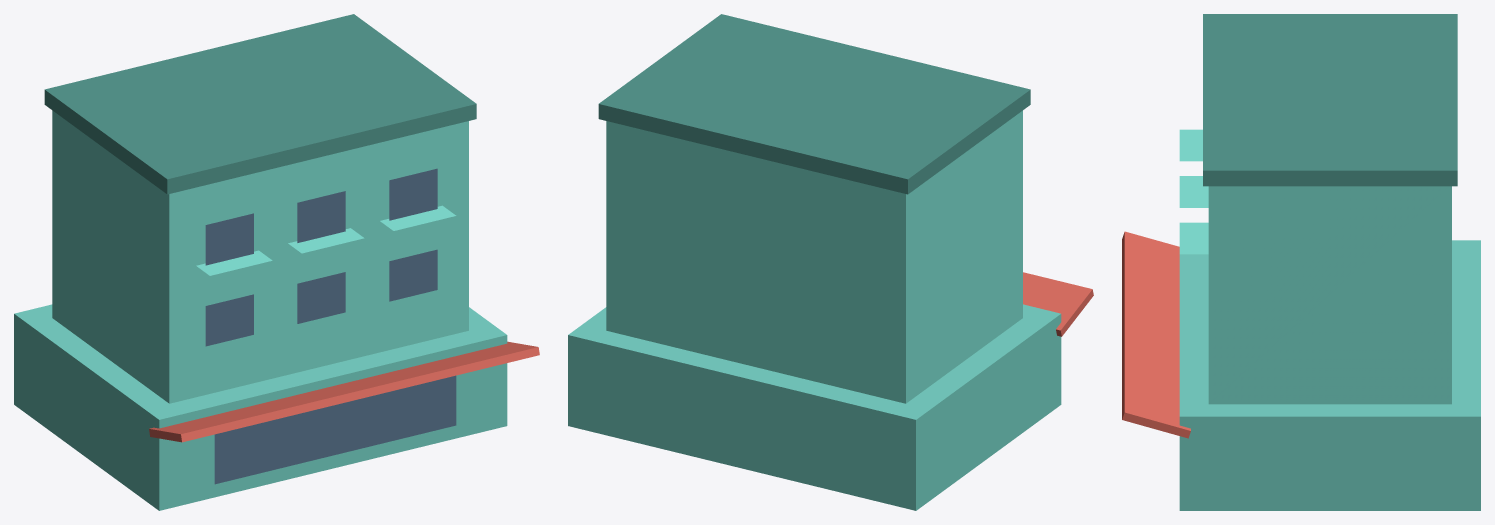
File: shopfront_apartments.glb
The picture shows the model from 3 angles, left to right: view 1: azimuth 30°, elevation 25°; view 2: azimuth 150°, elevation 25°; view 3: azimuth 270°, elevation 25°; orthographic projection. The views are drawn at different scales.
Parts seen in each view (by area): view 1: shopfront_apartments; view 2: shopfront_apartments; view 3: shopfront_apartments.
Boxes of the visible parts, x1,y1,x2,y2 form: shopfront_apartments: (14, 14, 539, 510); shopfront_apartments: (568, 14, 1093, 510); shopfront_apartments: (1122, 14, 1480, 510).
Size of the model in its own units: 0.74 by 0.63 by 0.6195.
